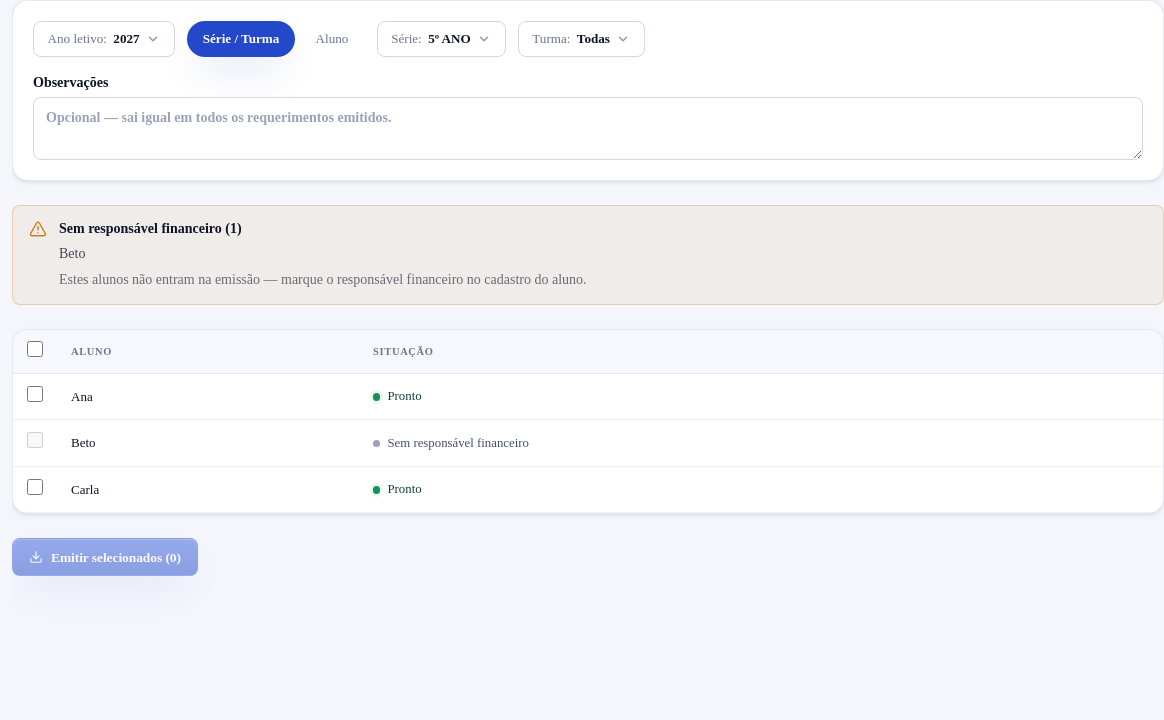
Scenario: RequerimentoEmissaoForm › com Série escolhida, a Turma lista só as turmas dela, pelo turno em maiúsculas
Click the button "Turma: Todas": (581, 39) [518,21,645,57]
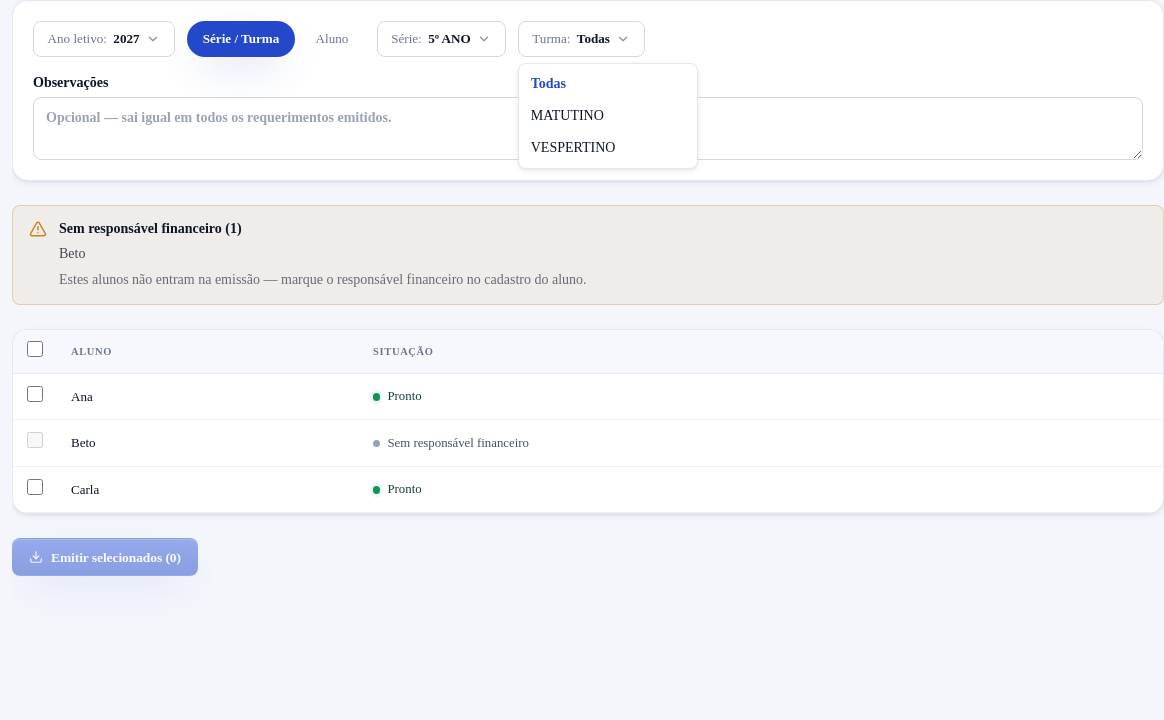
expect the button "VESPERTINO" is shown: met, box [519,132,697,164]
expect the number of buttons "MATUTINO" is 1: met, box [519,100,697,132]
